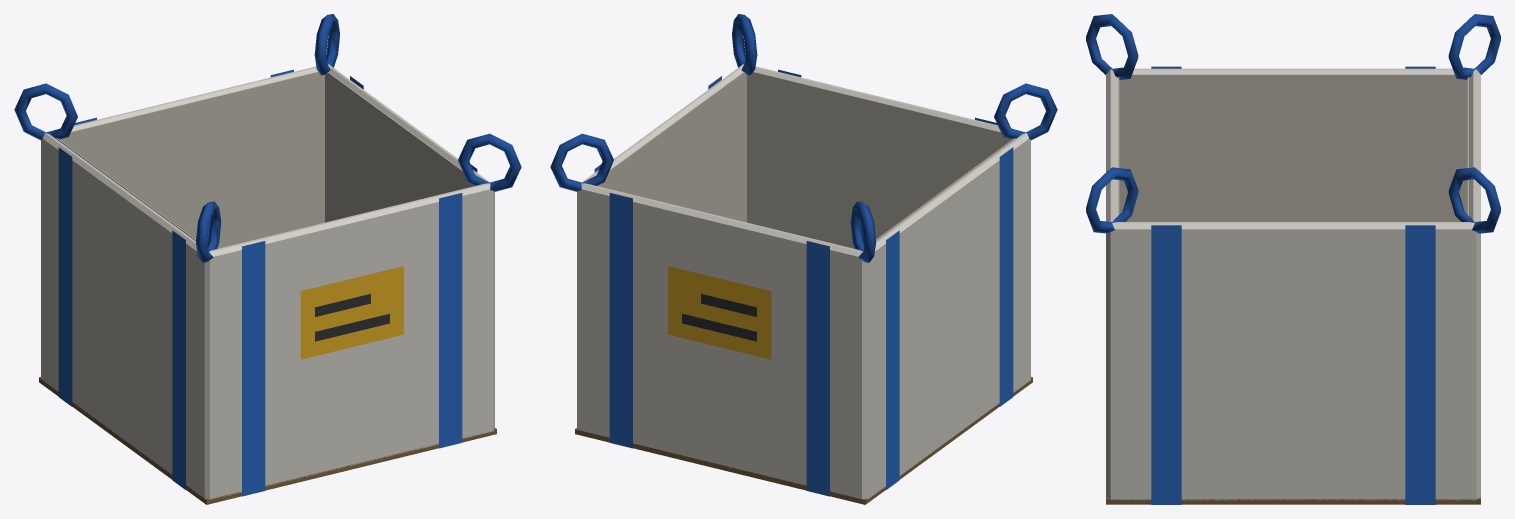
The model's file is site-hide.glb.
3 views of the same model, side by side, from view 1: azimuth 30°, elevation 25°; view 2: azimuth 150°, elevation 25°; view 3: azimuth 270°, elevation 25° (orthographic). The views are drawn at different scales.
Parts seen in each view (by area): view 1: site-hide; view 2: site-hide; view 3: site-hide.
Part boxes in pixels (left/top/right/bottom): site-hide: left=14, top=14, right=521, bottom=504; site-hide: left=550, top=14, right=1057, bottom=504; site-hide: left=1086, top=14, right=1500, bottom=504.
Size of the model in its own units: 1.37 by 1.22 by 1.37.
